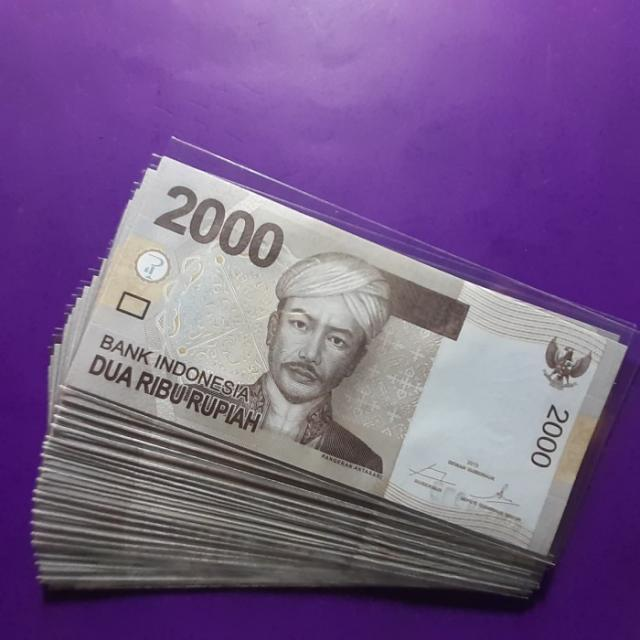dua ribu rupiah: (64, 160, 629, 561), (241, 228, 424, 416), (141, 171, 300, 287)
